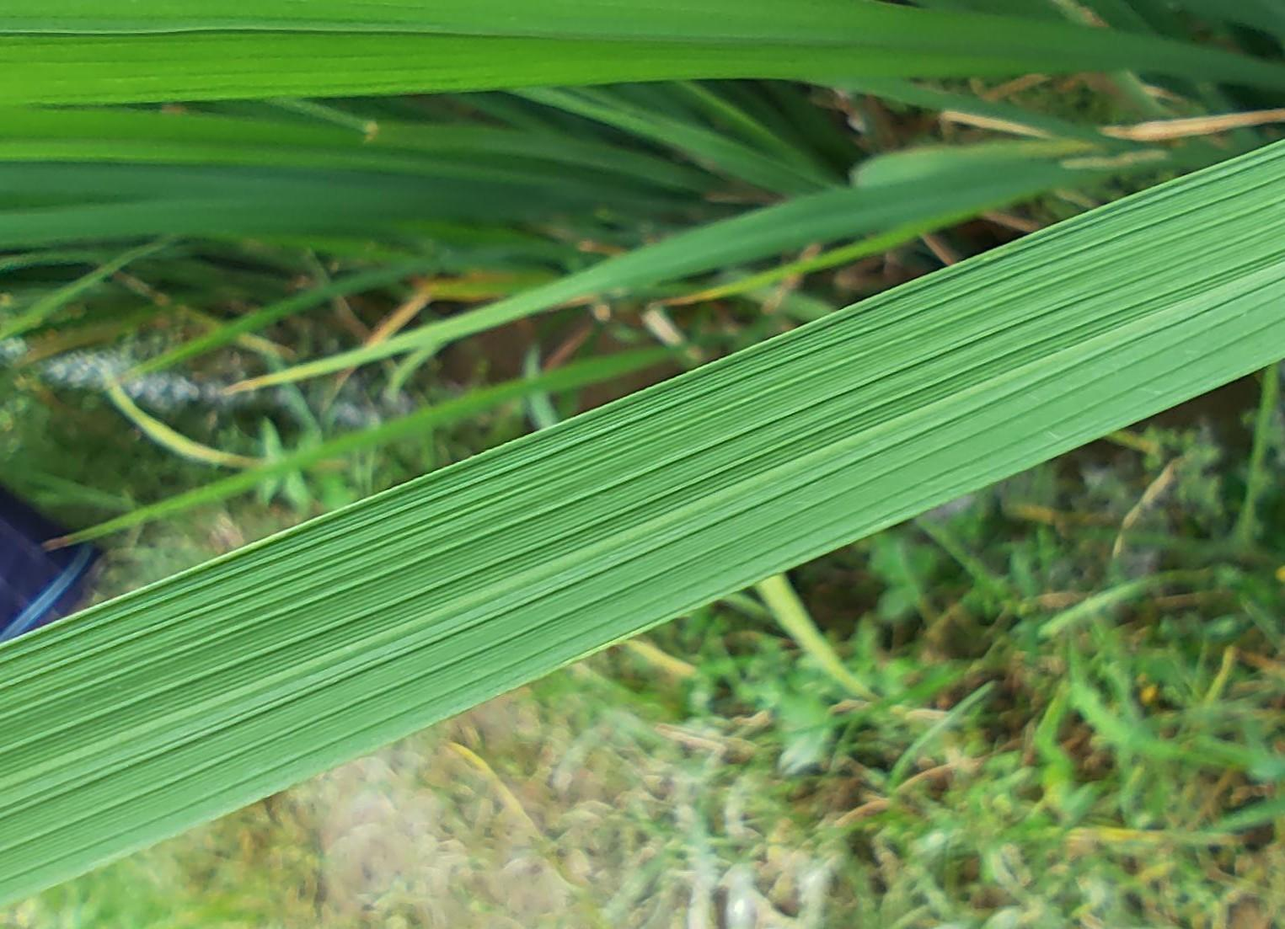Healthy: (0, 149, 1284, 906)
